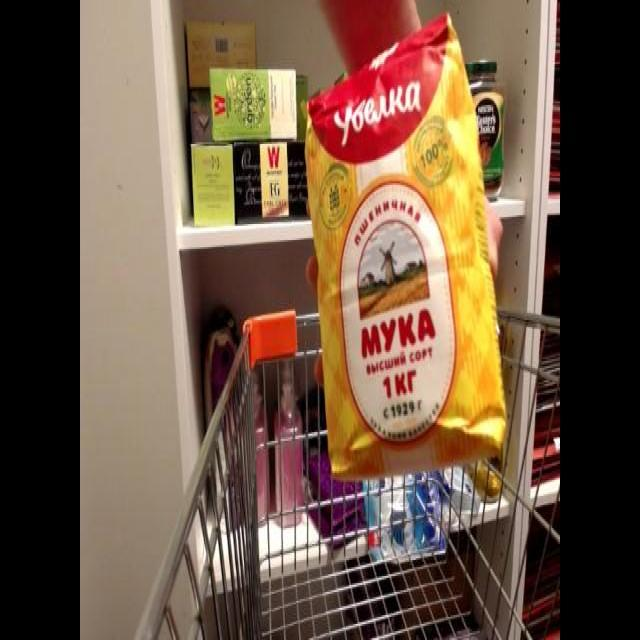Flour: (302, 16, 508, 485)
